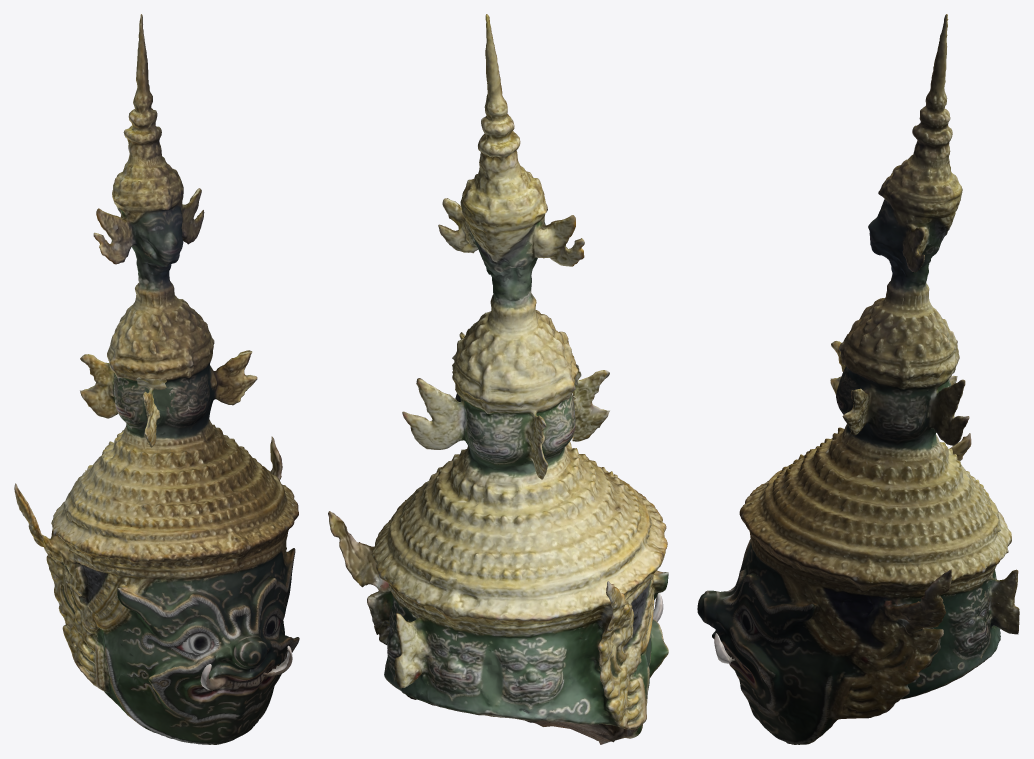
The model's file is Khon2.glb.
3 renders of one model, left to right at view 1: azimuth 30°, elevation 25°; view 2: azimuth 150°, elevation 25°; view 3: azimuth 270°, elevation 25°, orthographic. The views are drawn at different scales.
Parts seen in each view (by area): view 1: mesh; view 2: mesh; view 3: mesh.
Part boxes in pixels (x1=…): mesh: x1=14, y1=14, x2=299, y2=744; mesh: x1=328, y1=14, x2=668, y2=744; mesh: x1=697, y1=14, x2=1019, y2=744.
Bounding box in the file's own units: 0.3136 × 0.8 × 0.327.
1 material, 1 textured.
